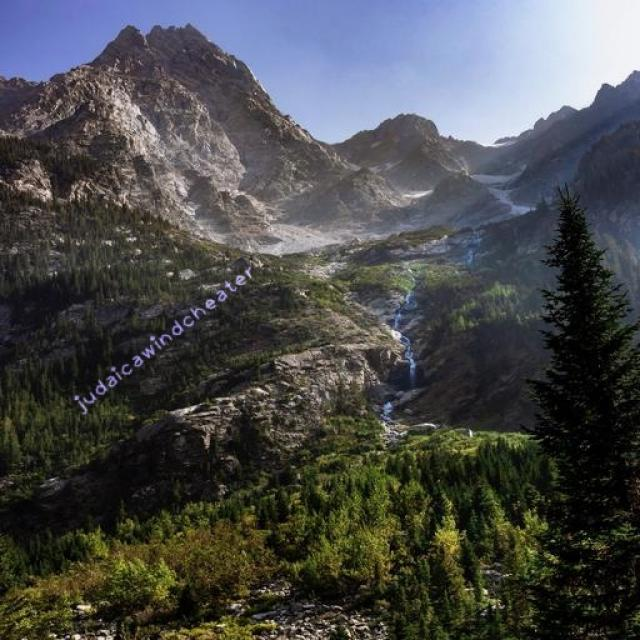watermark: (76, 257, 258, 414)
